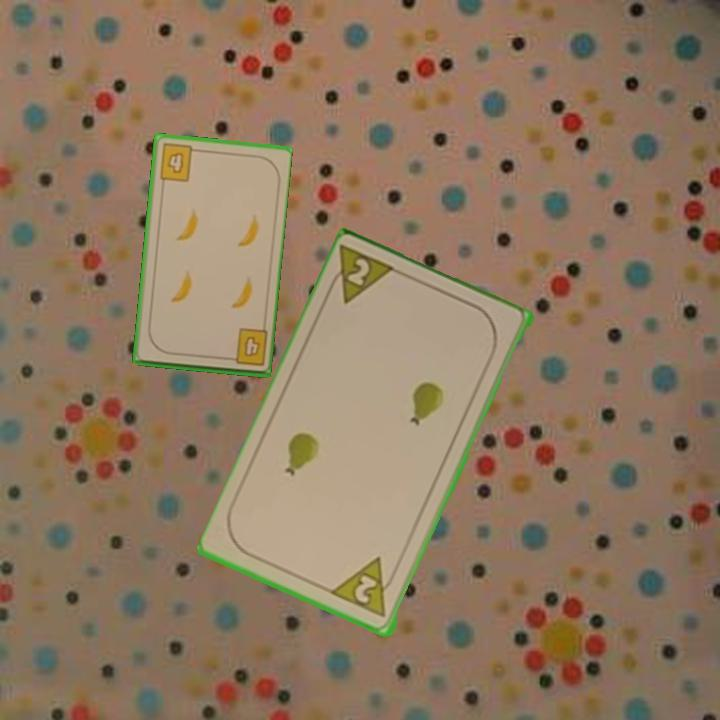2p: (322, 242, 401, 308), (329, 554, 400, 621)
4b: (222, 325, 270, 369), (156, 140, 201, 184)
